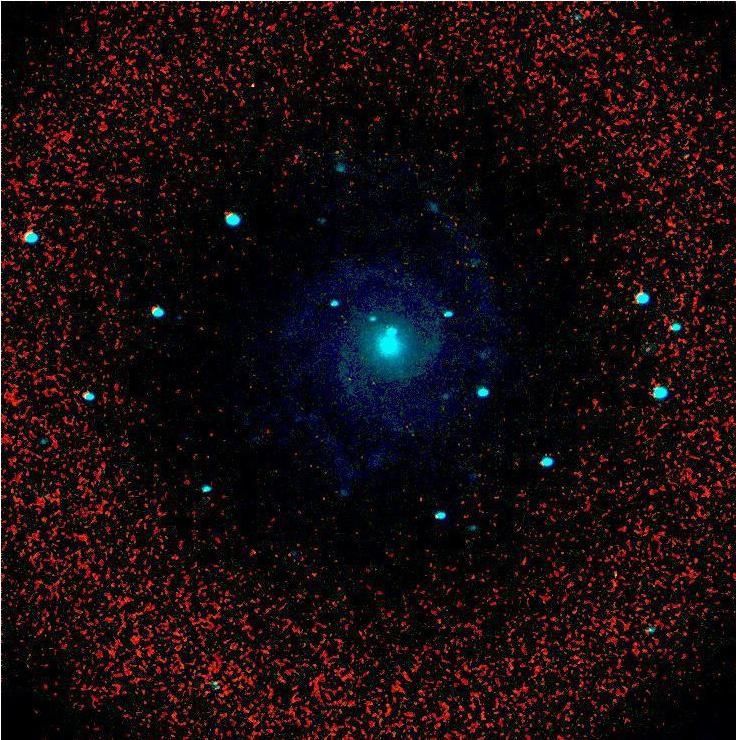star: (194, 418, 224, 448)
